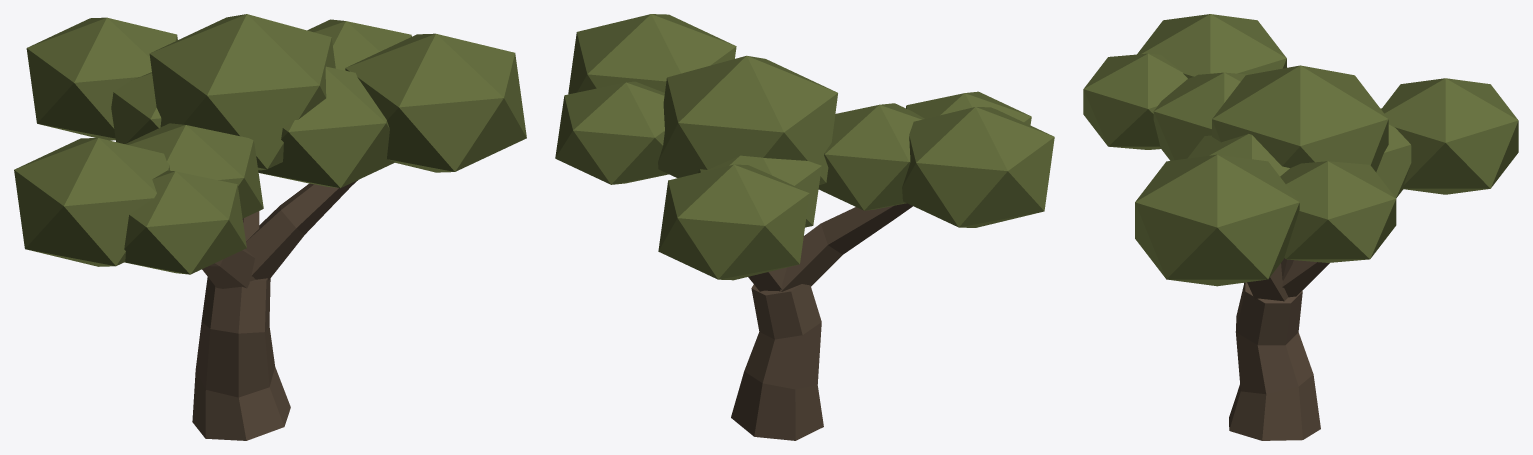
The model's file is Huizache.obj.
The picture shows the model from 3 angles, left to right: view 1: azimuth 30°, elevation 25°; view 2: azimuth 150°, elevation 25°; view 3: azimuth 270°, elevation 25°; orthographic projection. The views are drawn at different scales.
Visible parts, largest first — view 1: Huizache_Matorral; view 2: Huizache_Matorral; view 3: Huizache_Matorral.
Part boxes in pixels (bbox=[...]): Huizache_Matorral: bbox=[14, 14, 526, 440]; Huizache_Matorral: bbox=[555, 14, 1054, 440]; Huizache_Matorral: bbox=[1083, 14, 1518, 440].
Size of the model in its own units: 3.91 by 2.99 by 3.15.
